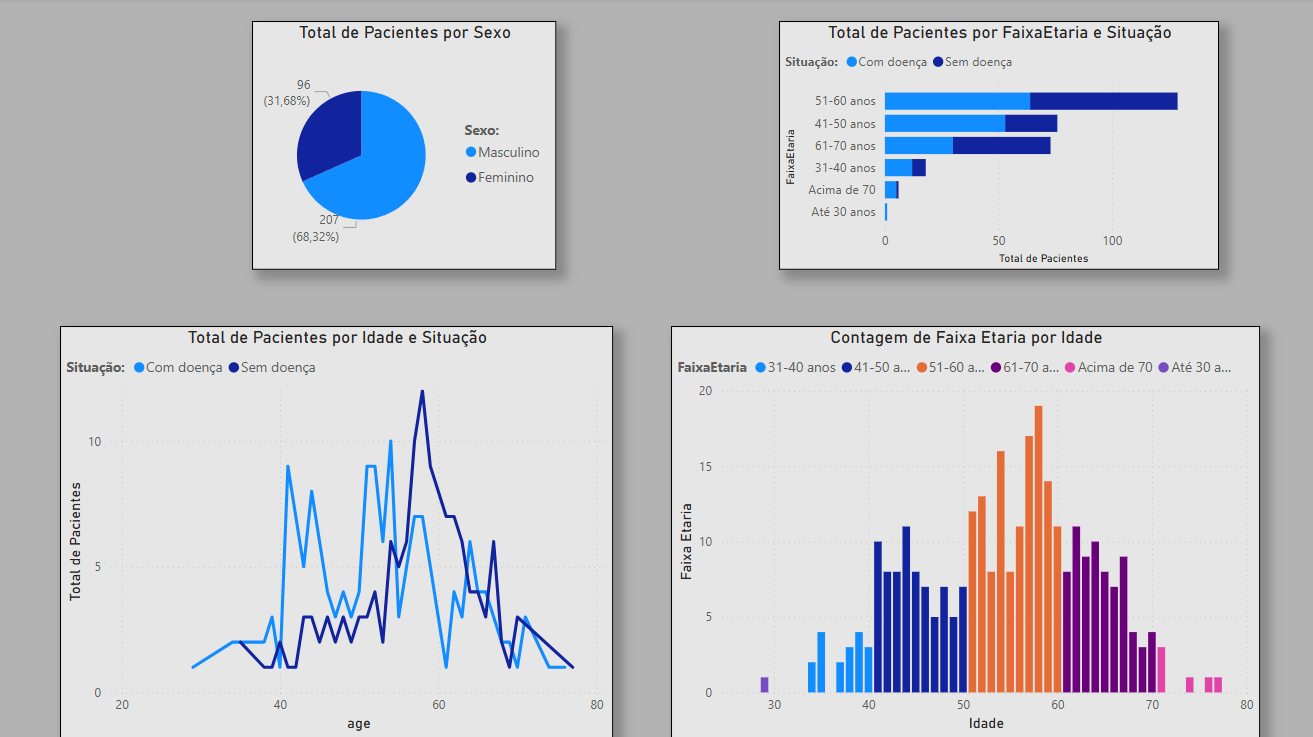

Layout of this report page (visuals, bound fields, positions):
{"tool":"powerbi","page":{"name":"Comparativos","canvas":[1280,720],"ordinal":2},"visuals":[{"type":"pieChart","fields":{"Category":["heart.Sexo"],"Y":["heart.TotalPacientes"]},"box":[247.1,22.4,295.7,242.2],"z":0},{"type":"lineChart","title":"Total de Pacientes por Idade e Situação","fields":{"Category":["heart.age"],"Y":["heart.TotalPacientes"],"Series":["heart.TemDoenca"]},"box":[60.3,319,537.9,400.7],"z":1000},{"type":"barChart","fields":{"Category":["heart.FaixaEtaria"],"Y":["heart.TotalPacientes"],"Series":["heart.TemDoenca"]},"box":[759.6,22.4,428,242.2],"z":2000},{"type":"columnChart","title":"Contagem de Faixa Etaria por Idade","fields":{"Category":["heart.age"],"Y":["CountNonNull(heart.FaixaEtaria)"],"Series":["heart.FaixaEtaria"]},"box":[654.6,319,572.9,400.7],"z":3001}]}

Visuals, with their boxes in screenshot pixels (x1, y1, x2, y2), scaled from the page's 1280x720 canvas onto the 1313x737 screenshot:
pieChart - heart.Sexo x heart.TotalPacientes: x1=253 y1=23 x2=557 y2=271
"Total de Pacientes por Idade e Situação" lineChart: x1=62 y1=327 x2=614 y2=736
barChart - heart.FaixaEtaria x heart.TotalPacientes: x1=779 y1=23 x2=1218 y2=271
"Contagem de Faixa Etaria por Idade" columnChart: x1=671 y1=327 x2=1259 y2=736
